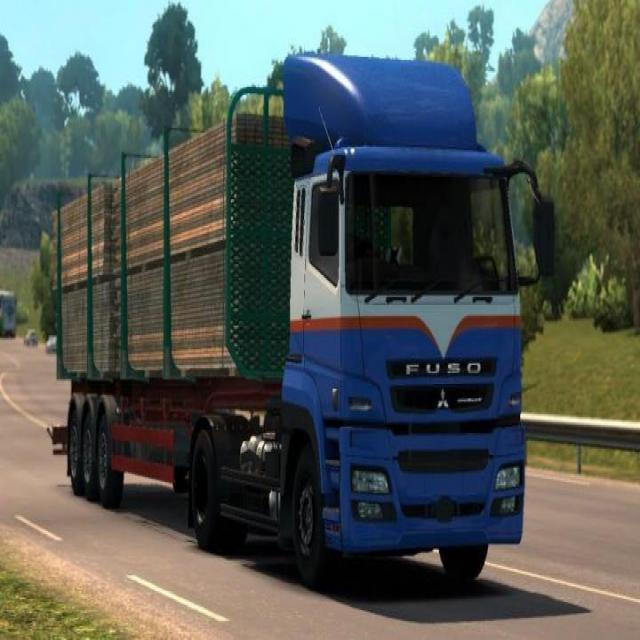truck: (48, 52, 550, 578)
